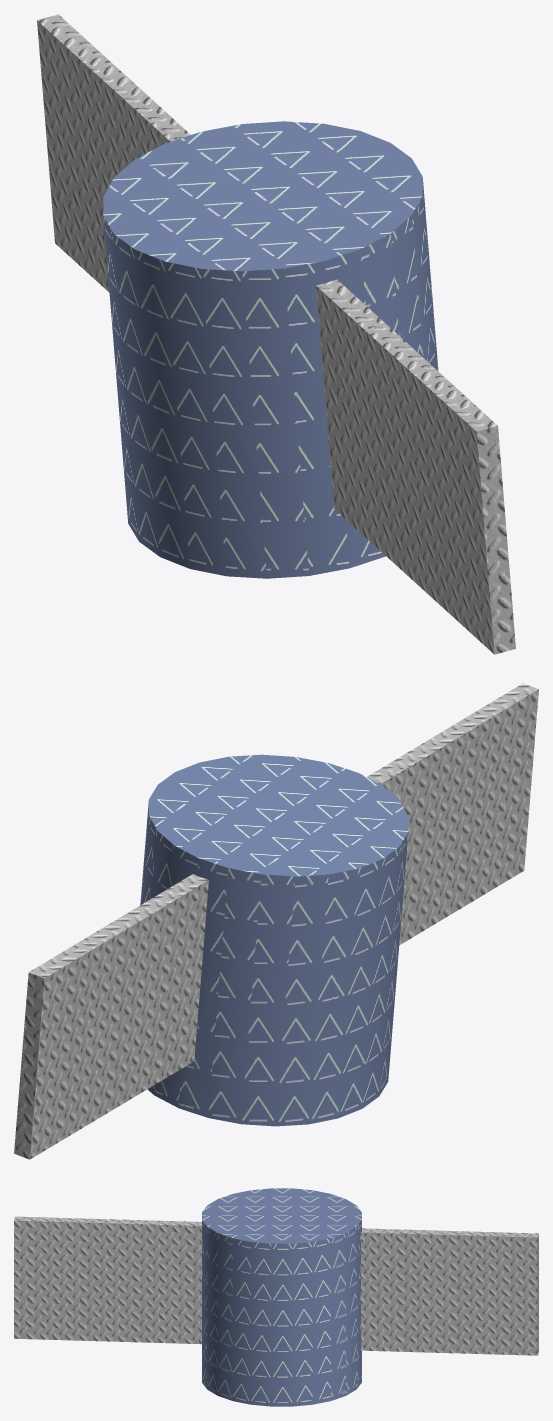
The model's file is power.dae.
3 renders of one model, top to bottom at view 1: azimuth 30°, elevation 25°; view 2: azimuth 150°, elevation 25°; view 3: azimuth 270°, elevation 25°, orthographic. The views are drawn at different scales.
Parts seen in each view (by area): view 1: SketchUp, SketchUp_003, SketchUp_001; view 2: SketchUp, SketchUp_001, SketchUp_003; view 3: SketchUp, SketchUp_003, SketchUp_001.
Boxes of the visible parts, x1,y1,x2,y2 form: SketchUp: (103,121,438,578); SketchUp_003: (316,279,515,654); SketchUp_001: (37,14,190,292); SketchUp: (140,754,408,1126); SketchUp_001: (14,874,208,1159); SketchUp_003: (367,683,538,945); SketchUp: (202,1188,361,1406); SketchUp_003: (14,1216,201,1344); SketchUp_001: (361,1228,538,1355).
Bounding box in the file's own units: 0.4992 × 1.51 × 0.5344.
3 materials, 2 textured.
